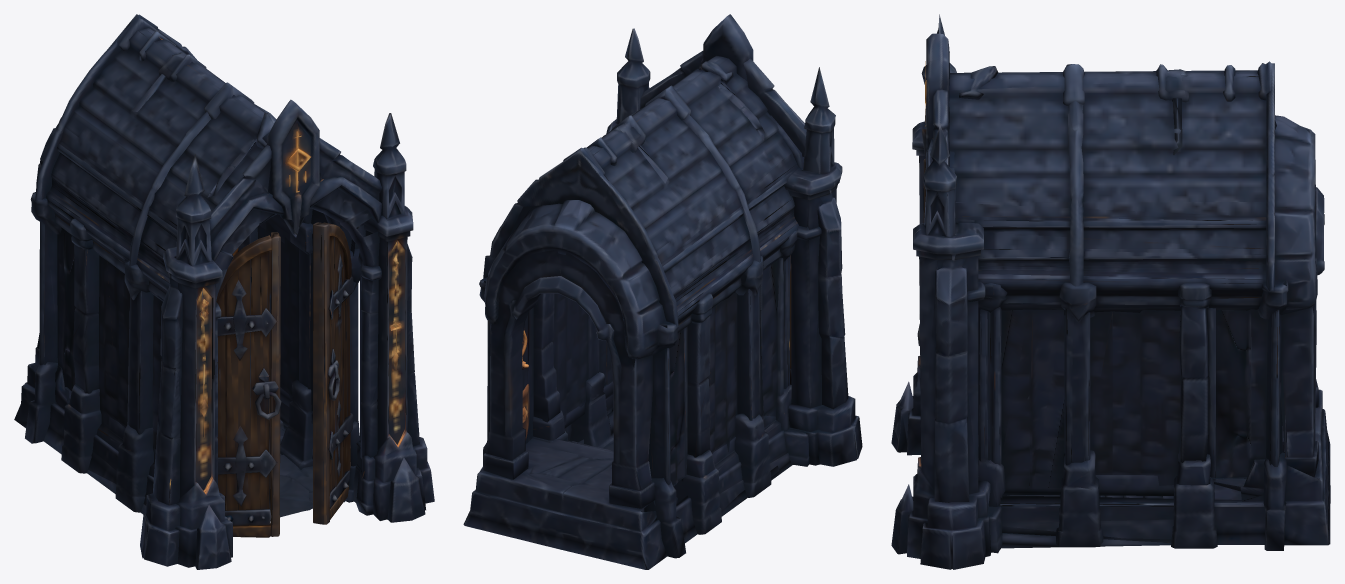
Rendered from puerta.glb.
3 renders of one model, left to right at view 1: azimuth 30°, elevation 25°; view 2: azimuth 150°, elevation 25°; view 3: azimuth 270°, elevation 25°, orthographic. The views are drawn at different scales.
Parts seen in each view (by area): view 1: geometry_0; view 2: geometry_0; view 3: geometry_0.
Part boxes in pixels (<box>): geometry_0: <box>14,14,434,569</box>; geometry_0: <box>463,14,862,569</box>; geometry_0: <box>891,14,1330,569</box>.
Bounding box in the file's own units: 0.6675 × 0.9526 × 0.8218.
1 material, 1 textured.
